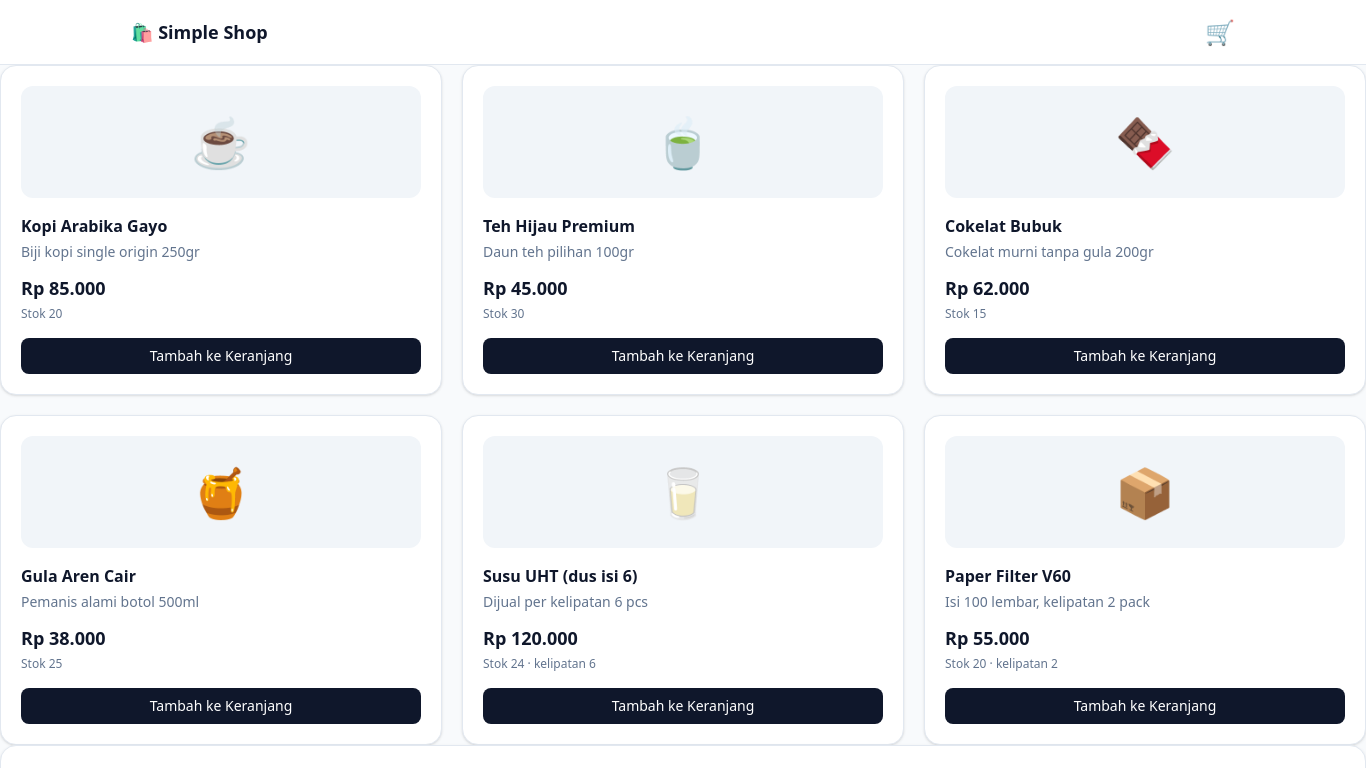
Test: Cart › menambahkan produk, menampilkan toast, dan memperbarui badge navbar
Click the button "Tambah ke Keranjang" below "Rp 85.000" at [221, 356], box [21,338,421,374]
(page scrolled)
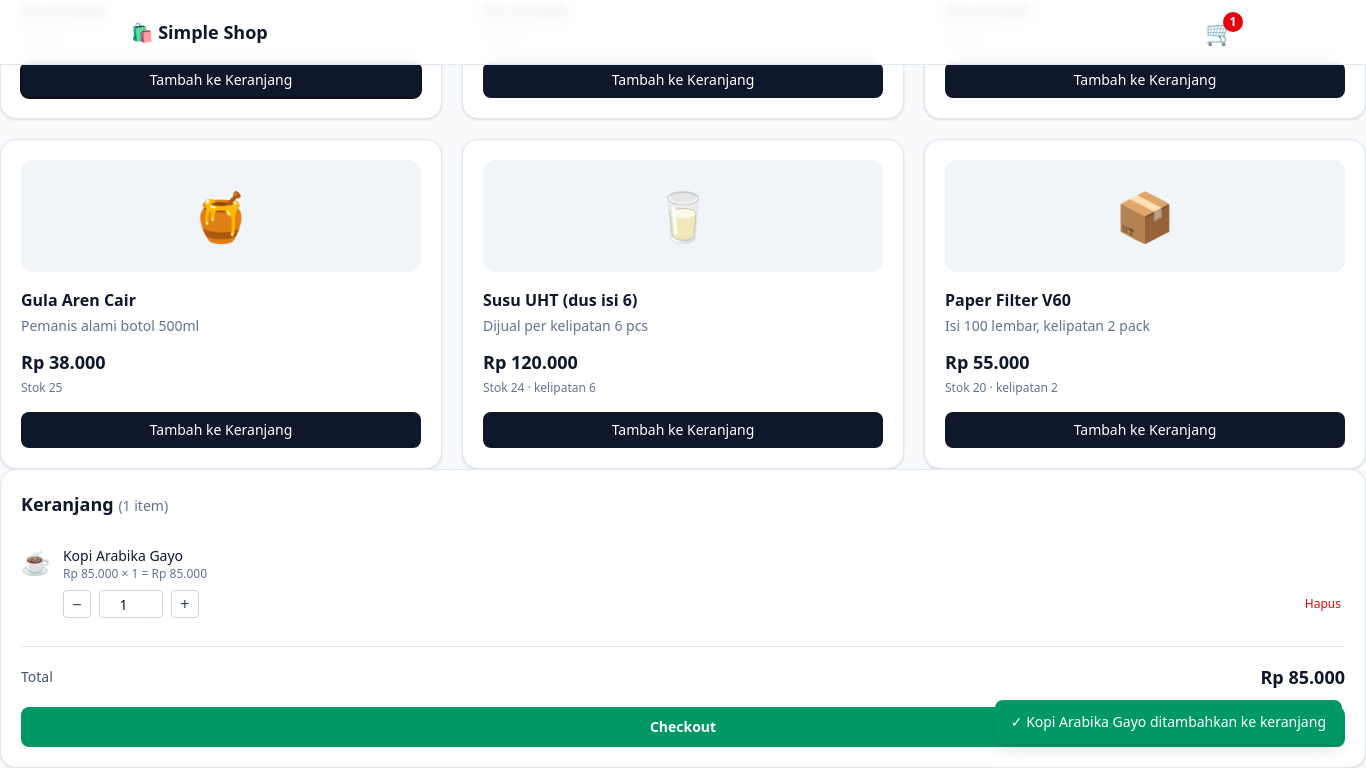
Now the message shows "ditambahkan ke keranjang", box [1026,712,1326,731]
